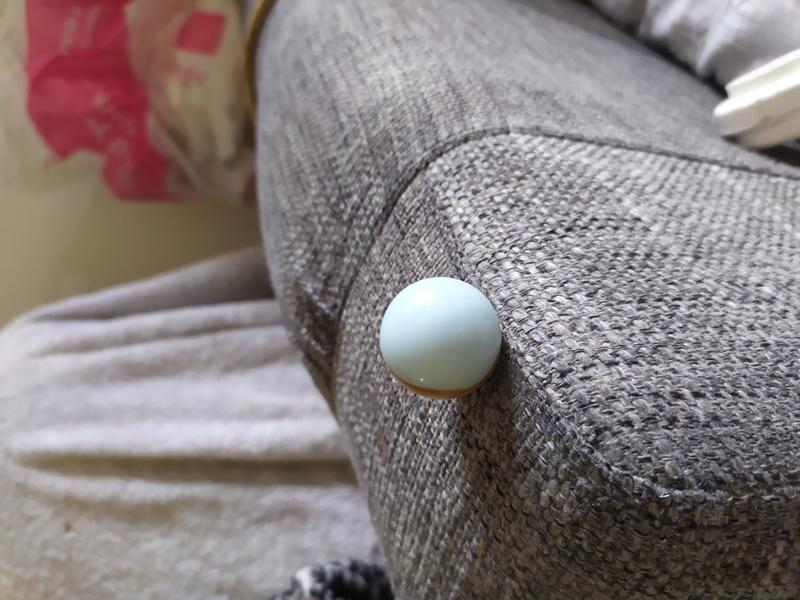Warning: (376, 273, 506, 402)
